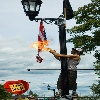fire: (30, 40, 53, 52)
